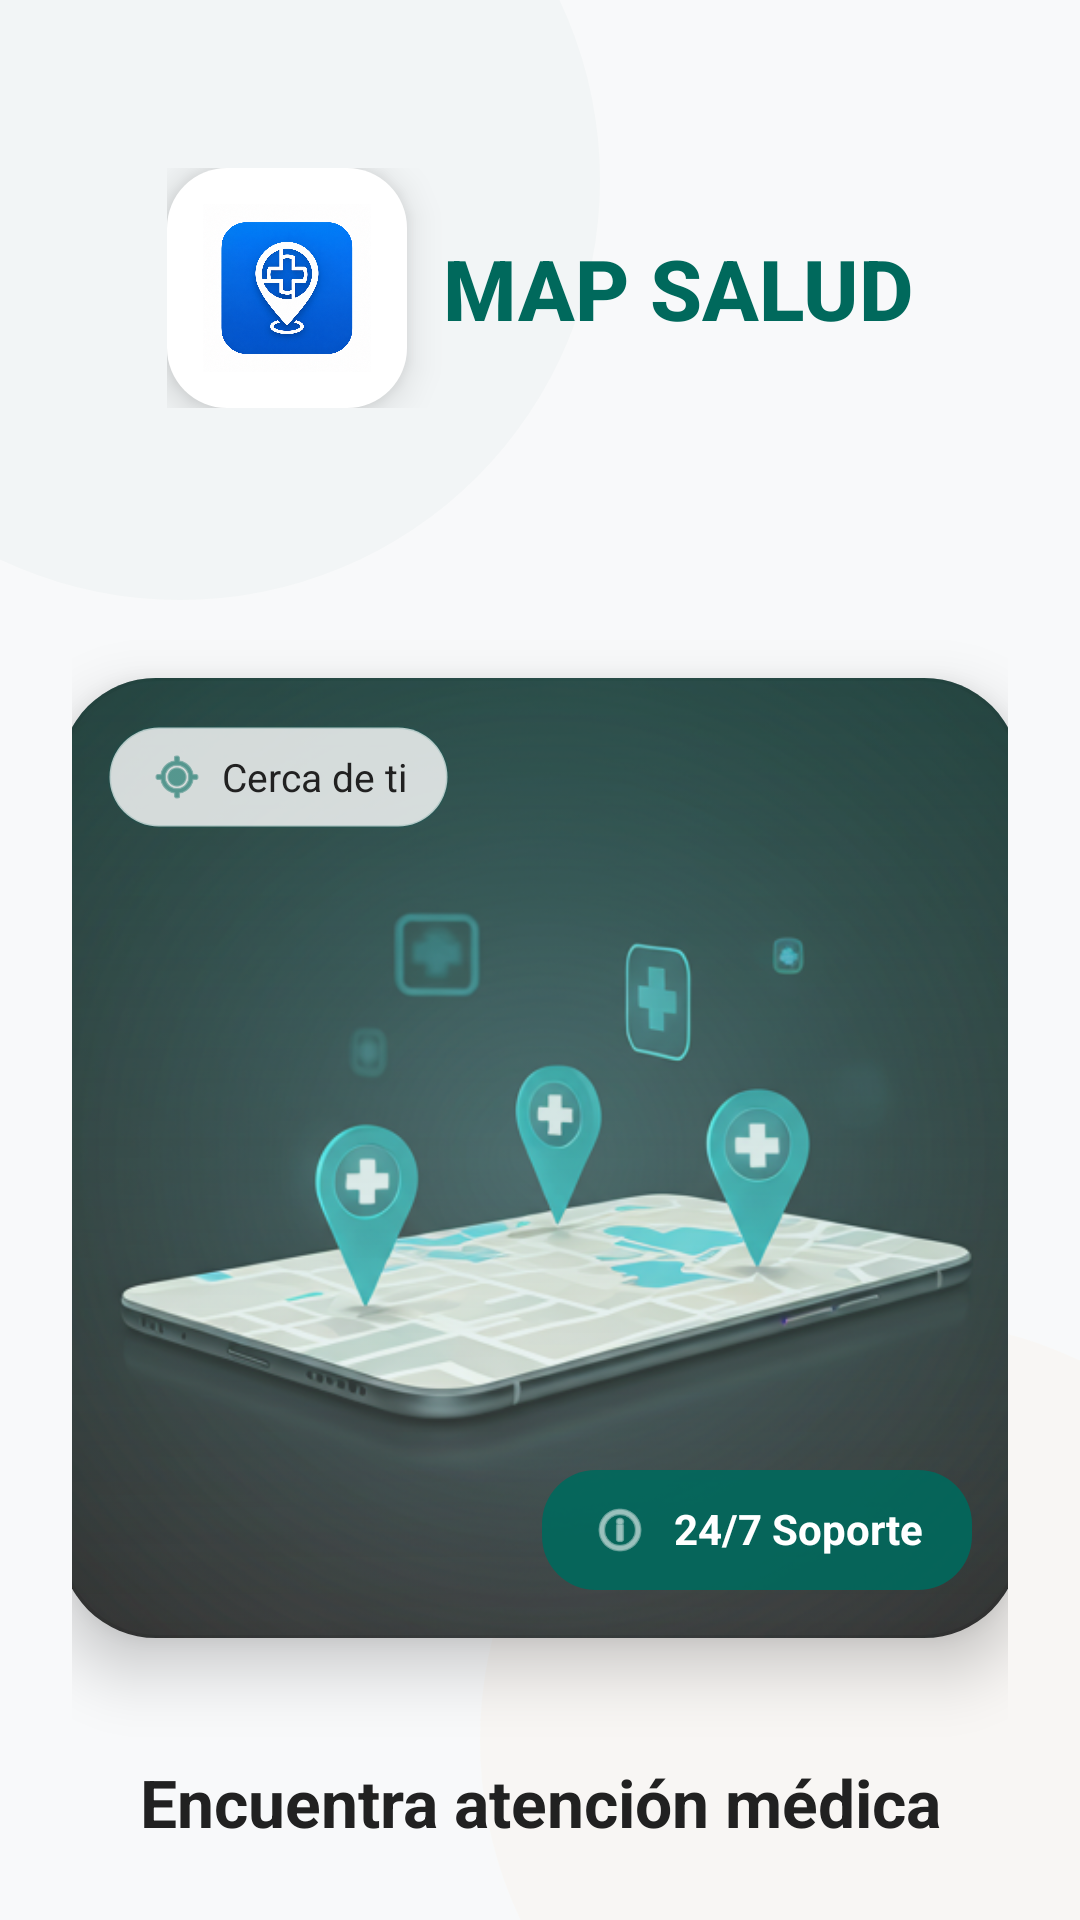

Locate icon controls on the screen. Image size 1080*1920, boxes as (x1, y1, x2, y2).
info details: (598, 1508, 642, 1552)
mylocation: (155, 755, 199, 799)
